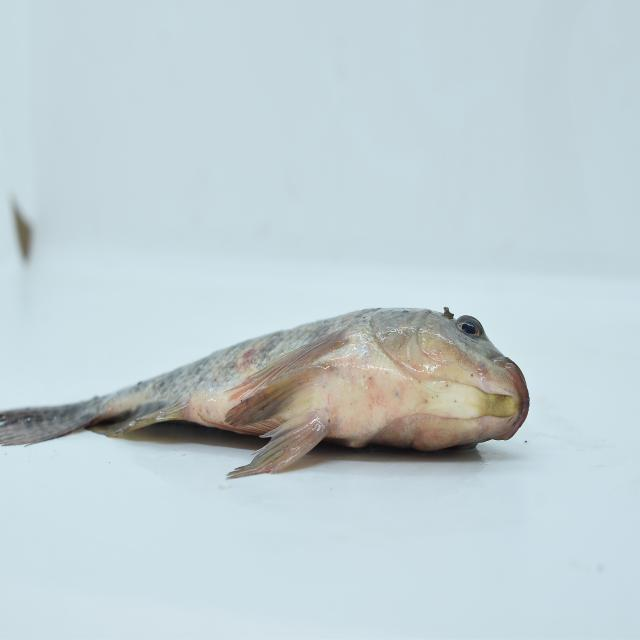Columnaris Disease: (0, 269, 547, 494)
